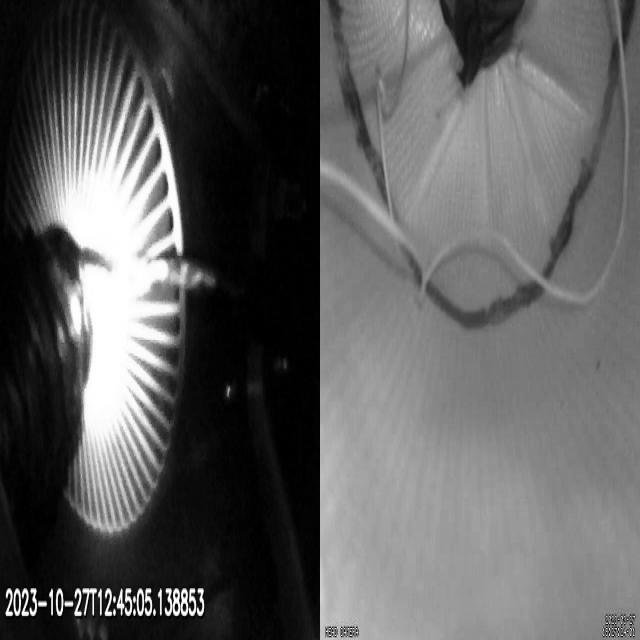red-circle: (323, 0, 637, 331)
